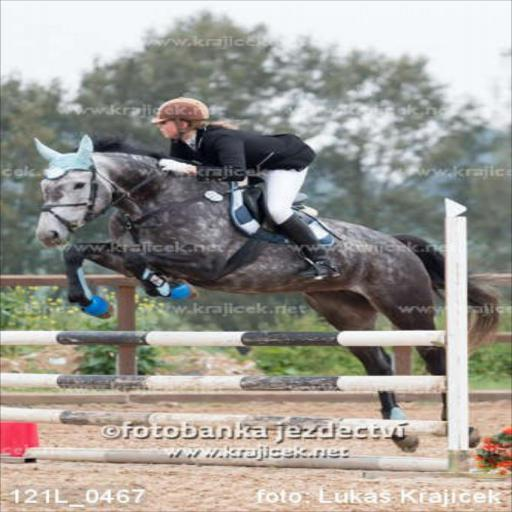horse: (35, 132, 506, 453)
